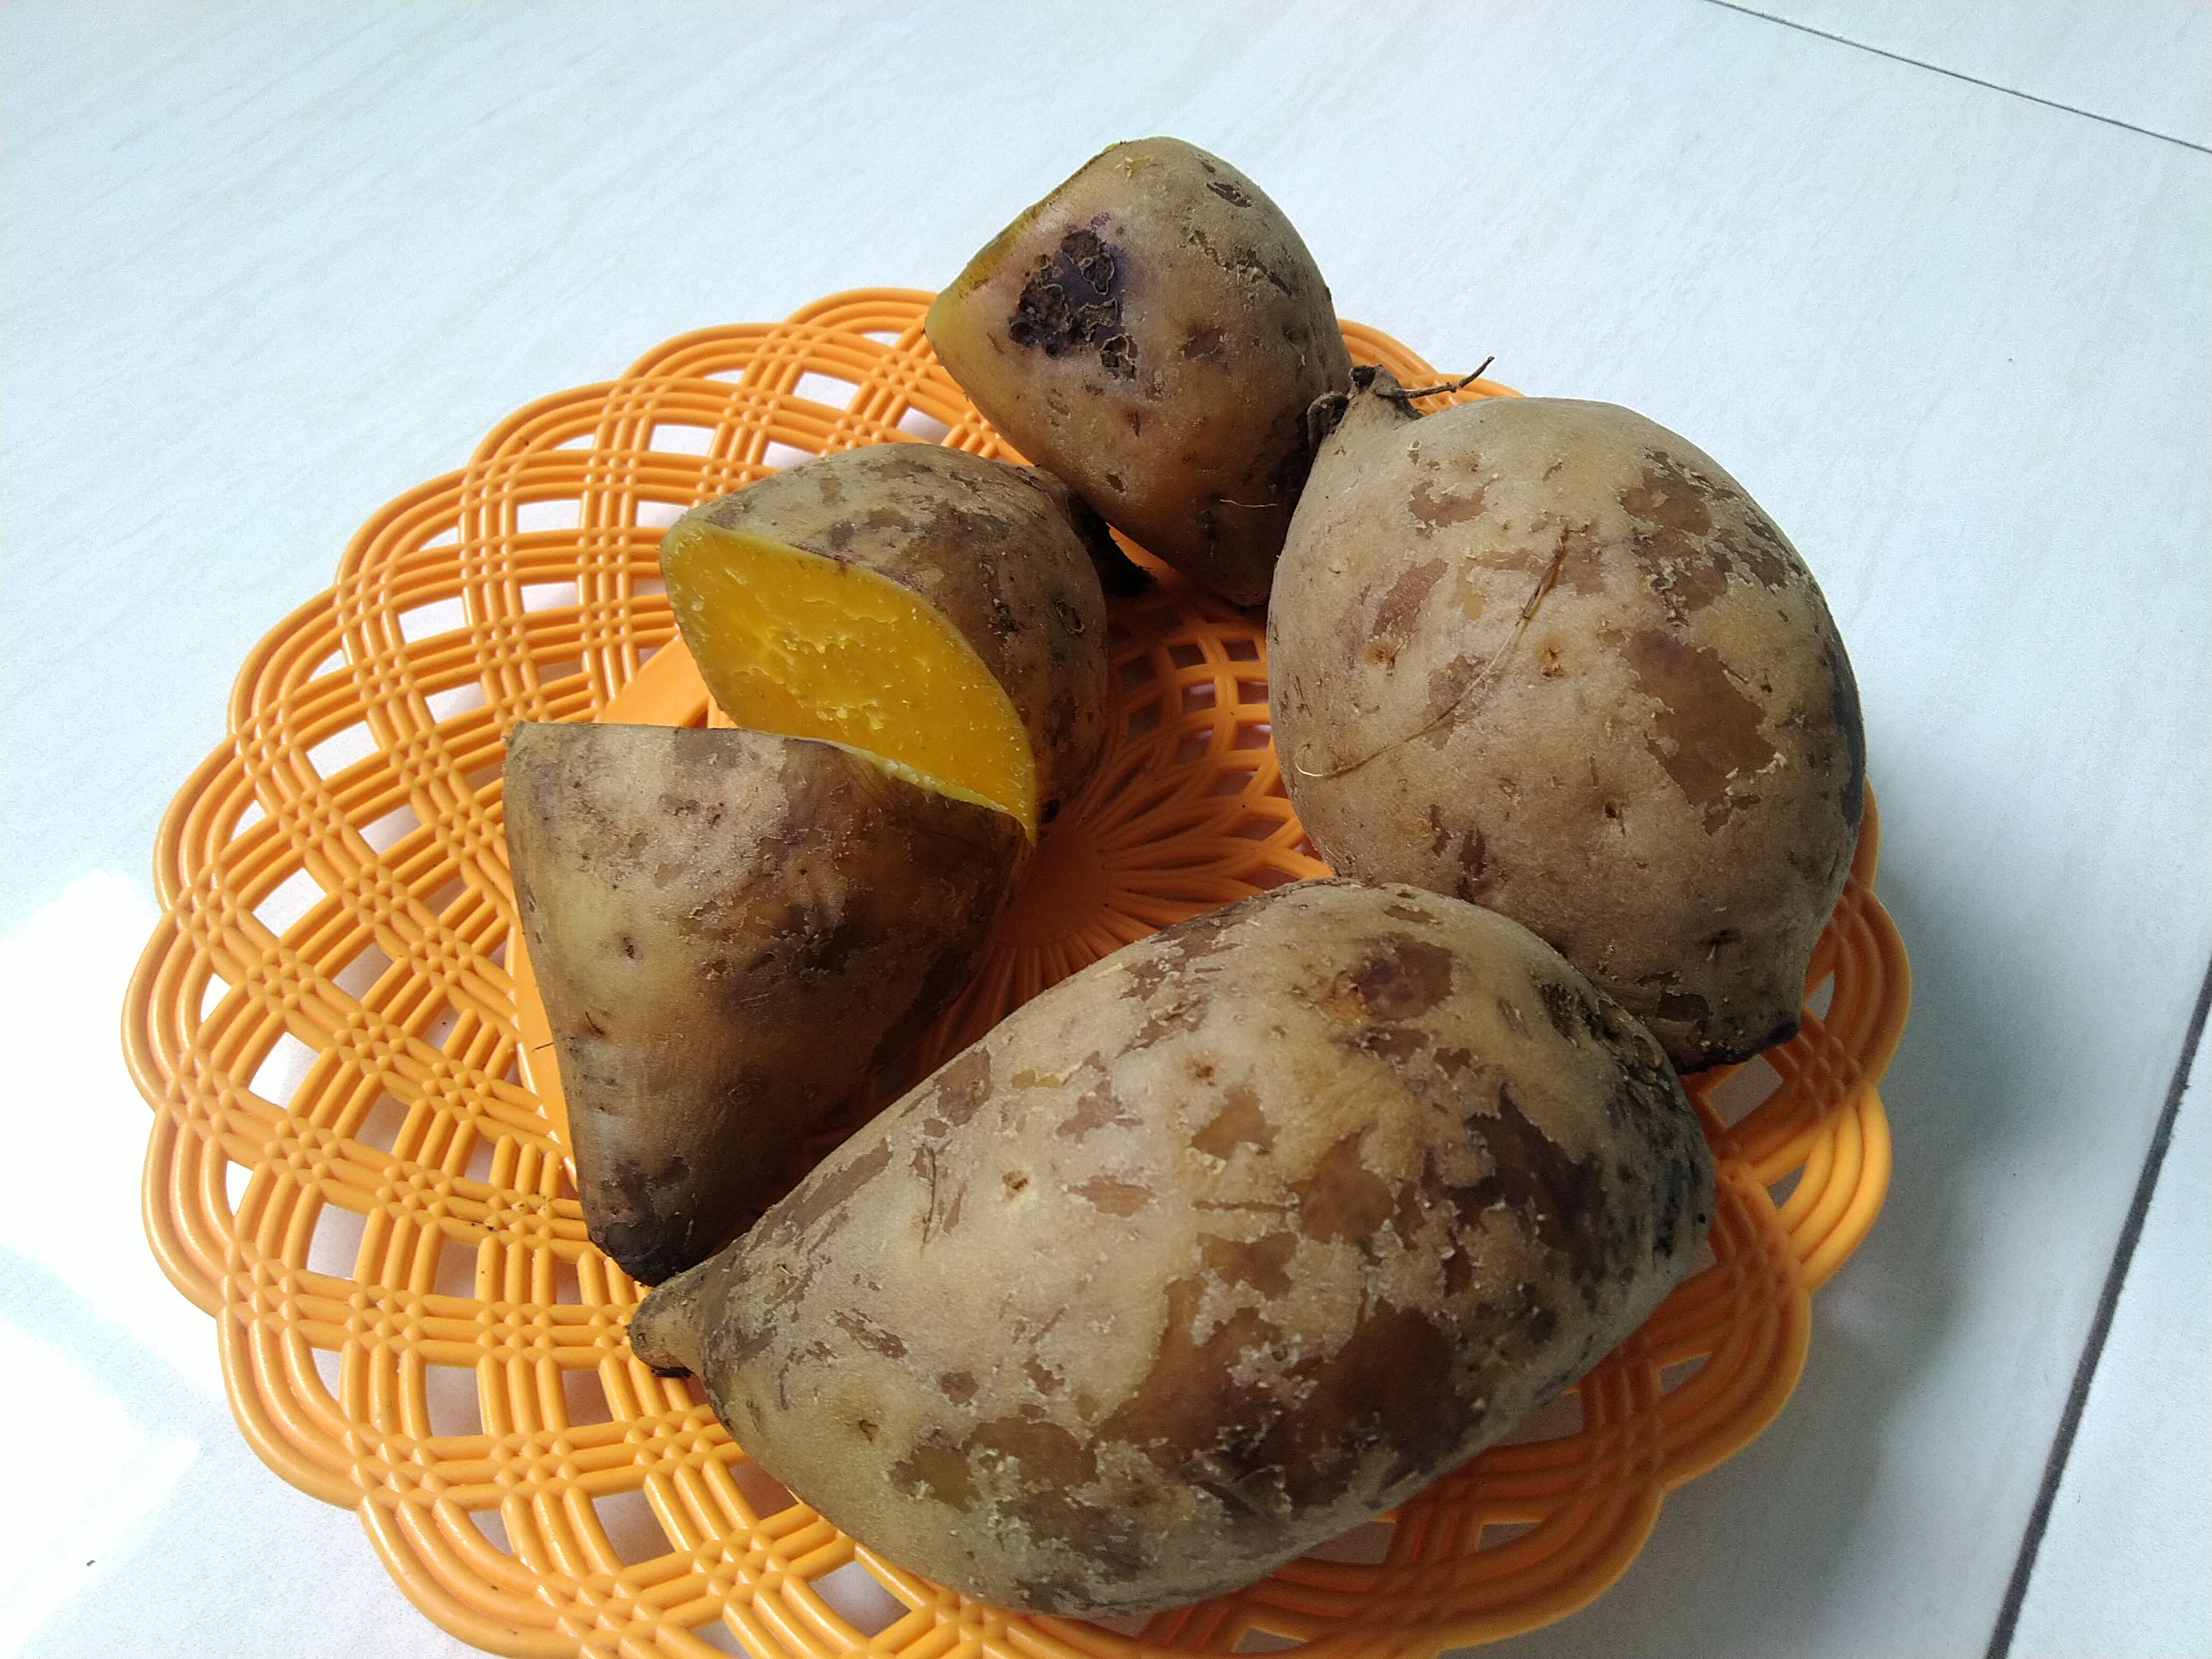ubi kuning: (634, 887, 1728, 1628), (1271, 362, 1892, 1070), (484, 716, 1022, 1277), (918, 110, 1366, 610), (639, 439, 1144, 845)
